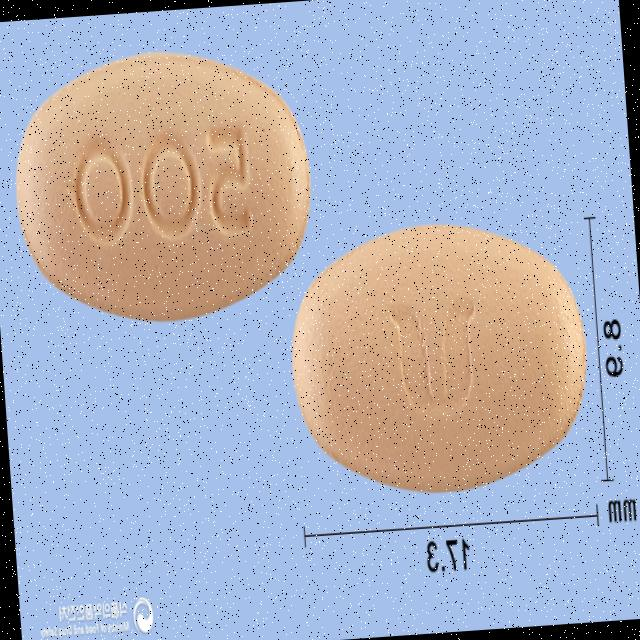Levo F: (282, 209, 597, 500), (5, 43, 318, 330)
